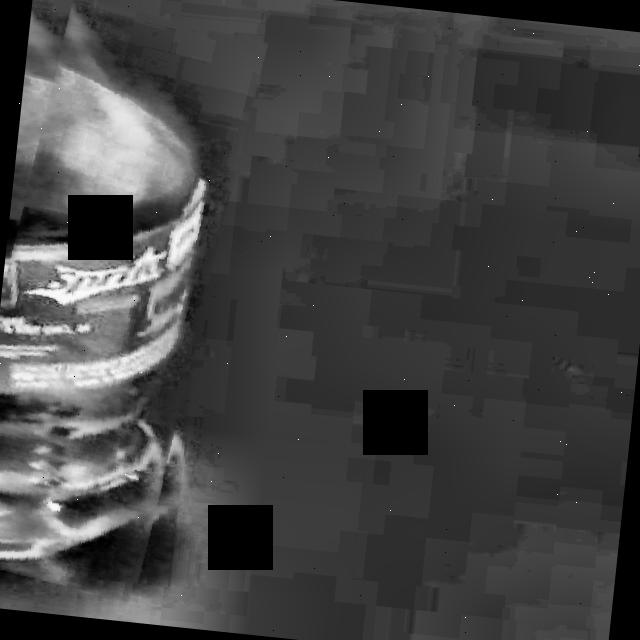bottle: (0, 0, 211, 569)
